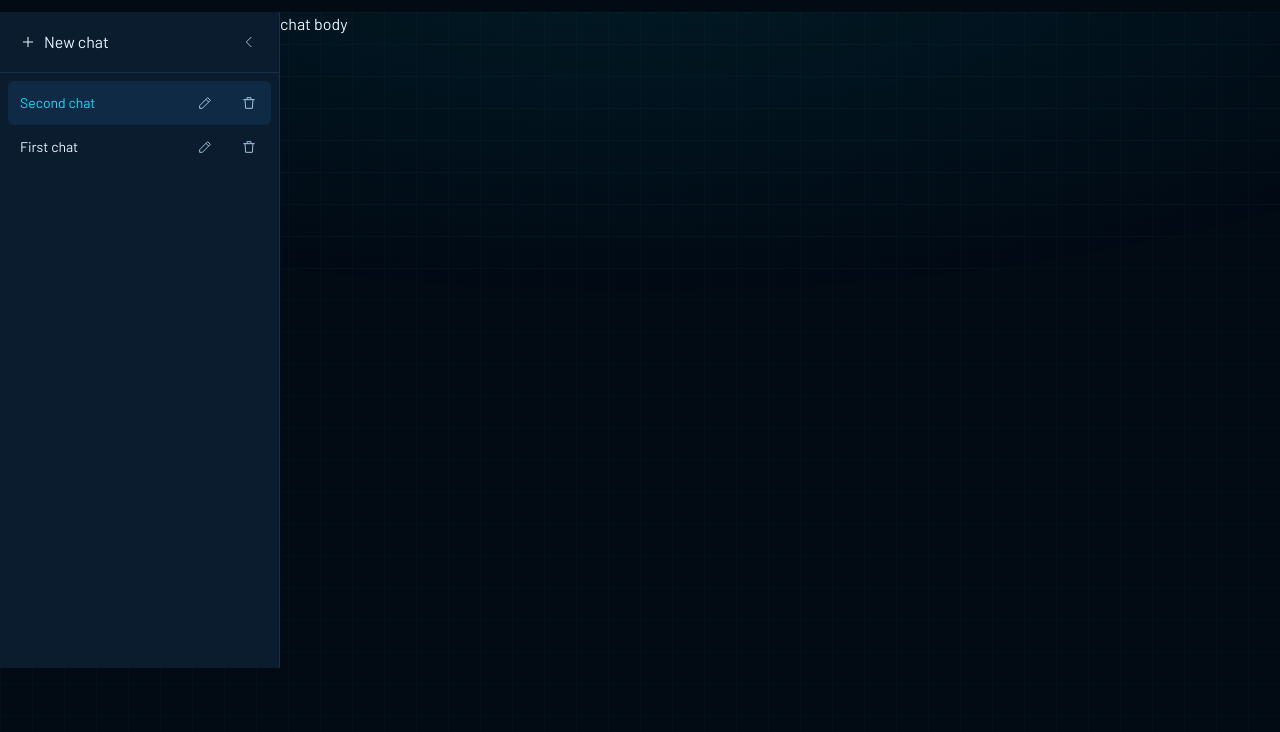
Test: conversation panel (M2-7) › deletes after confirmation and navigates away when the active row goes
This screenshot has width=1280, height=732.
Click the button named "Delete Second chat" at (249, 103), box [227,81,271,125]
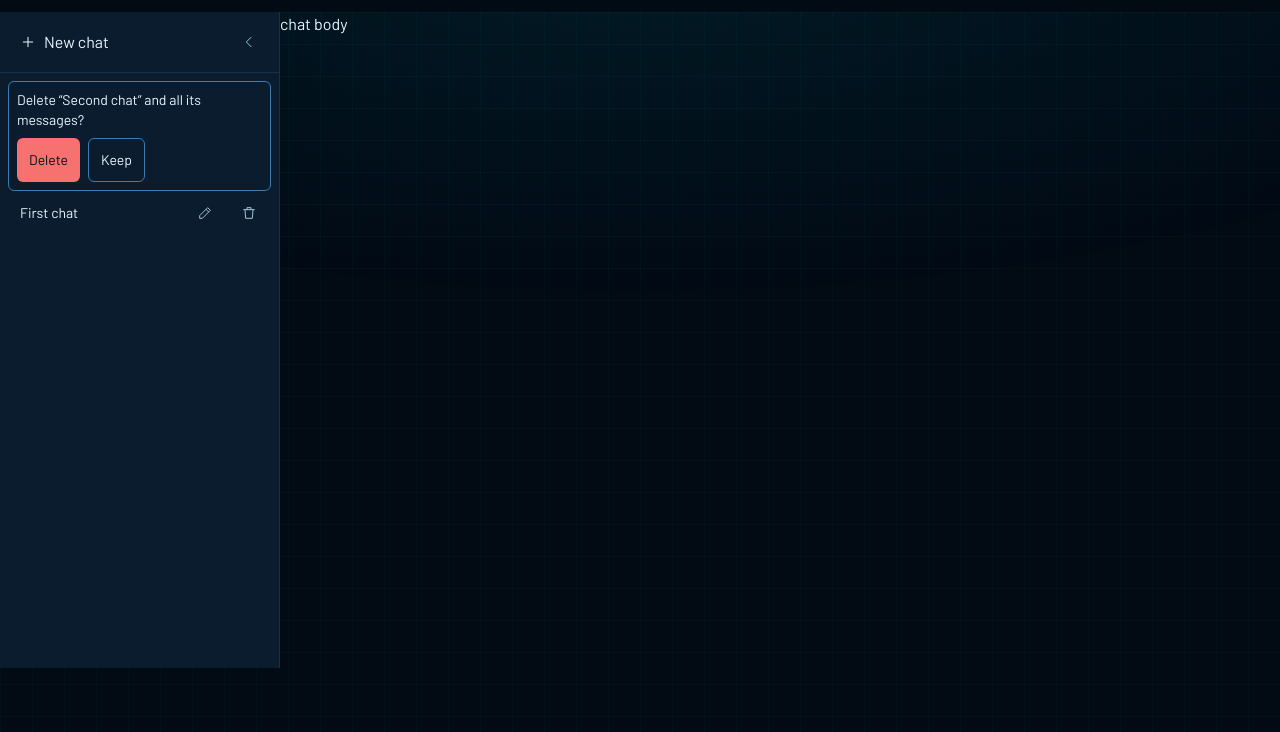
Result: the text "Delete “Second chat” and all its messages?" is shown at [17,91,201,128]
Click the button "Delete" at (48, 160), box [17,138,80,182]
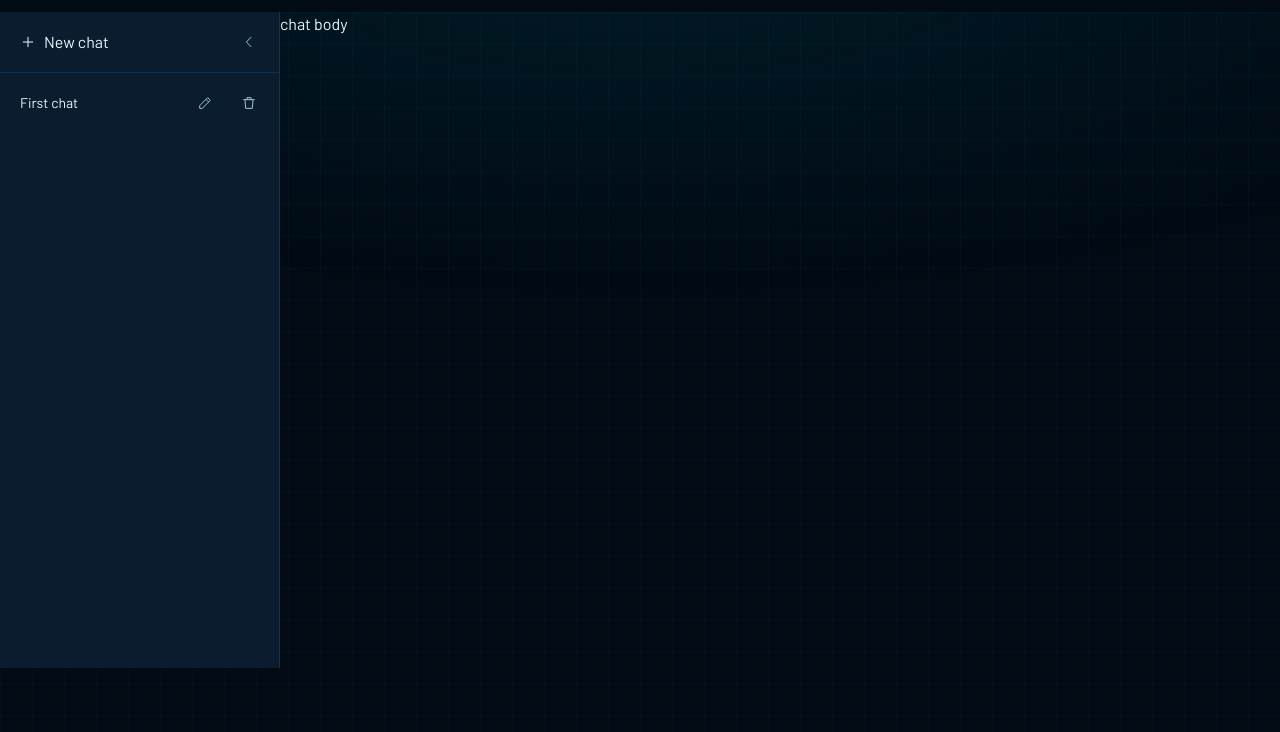
Expected: the text "First chat" is shown, [20,93,78,113]
Result: the text "Second chat" is gone
